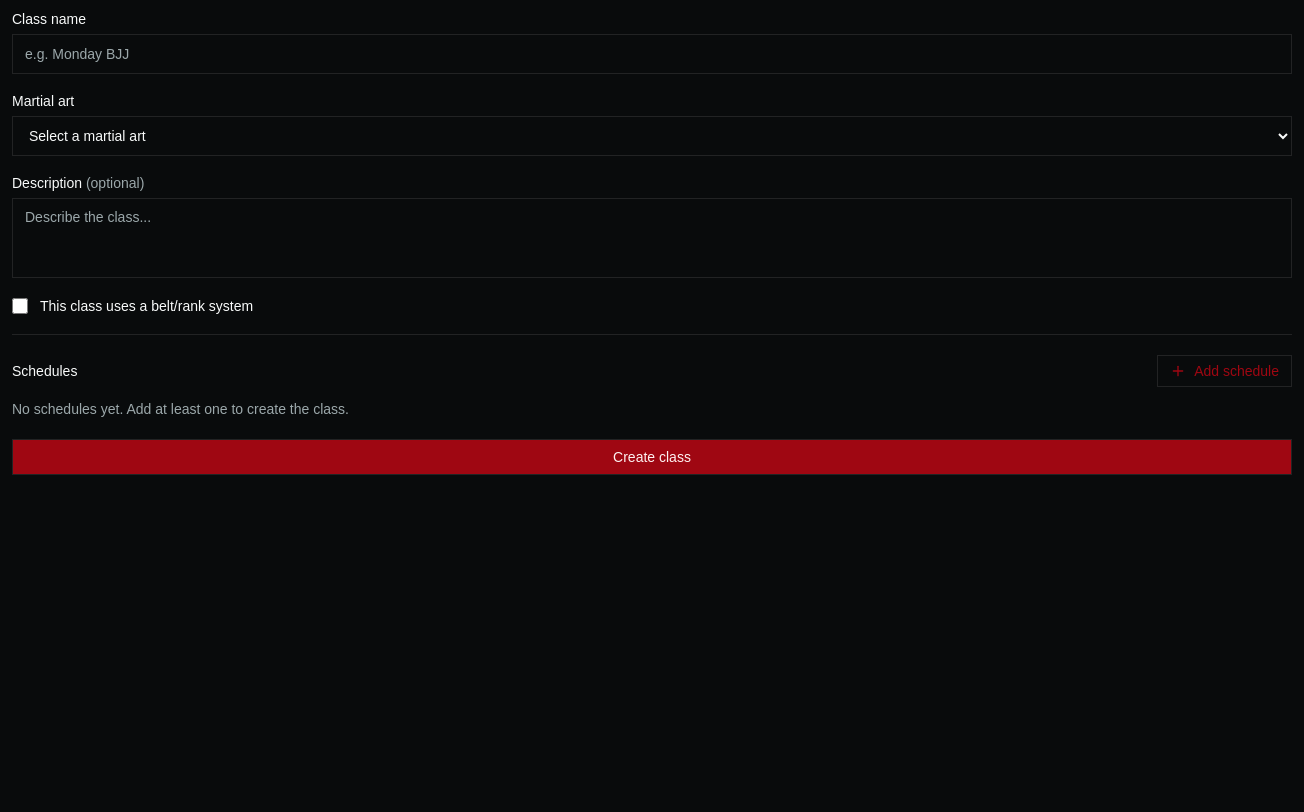
Test case: ClassForm — schedule field array › cannot submit with empty name — shows inline error
Click the button "Create class".
click(652, 457)  # box 12,439 -> 1292,475
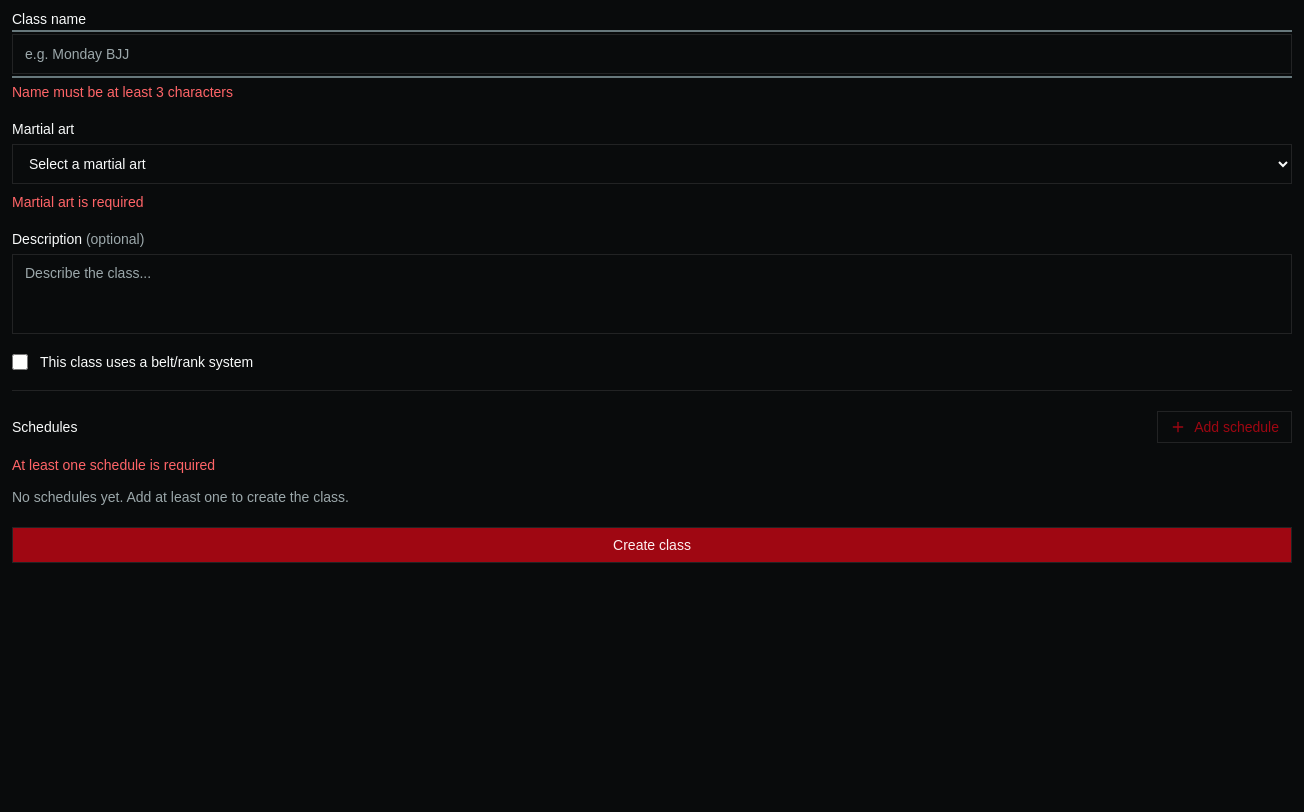
expect the text "Name must be at least 3 characters" is shown: met, box 12,84 -> 233,100
